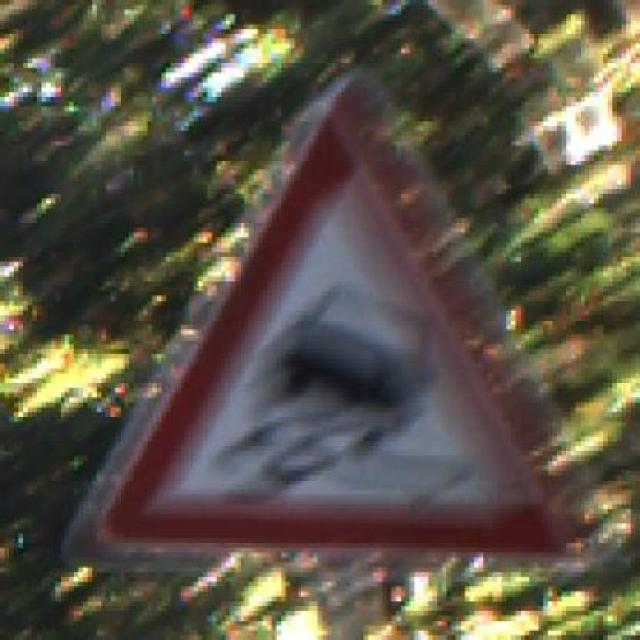Slippery Road Ahead: (78, 49, 594, 582)
